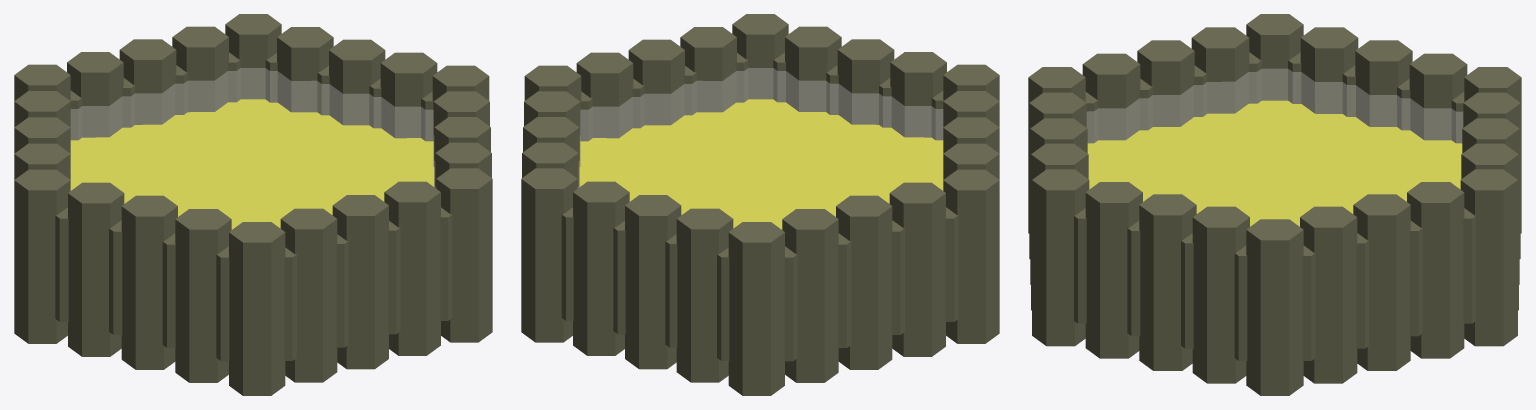
The model's file is Tatles1.fbx_Titel_Voda_6.fbx.
3 views of the same model, side by side, from view 1: azimuth 30°, elevation 25°; view 2: azimuth 150°, elevation 25°; view 3: azimuth 270°, elevation 25° (orthographic).
Visible parts, largest first — view 1: Stena_6, Voda, Dno; view 2: Stena_6, Voda, Dno; view 3: Stena_6, Voda, Dno.
Boxes of the visible parts, x1,y1,x2,y2 form: Stena_6: [14, 14, 492, 395]; Voda: [71, 68, 435, 229]; Dno: [70, 99, 434, 229]; Stena_6: [521, 14, 999, 395]; Voda: [578, 68, 942, 229]; Dno: [579, 99, 943, 229]; Stena_6: [1028, 14, 1521, 395]; Voda: [1087, 69, 1462, 226]; Dno: [1087, 100, 1462, 226].
Bounding box in the file's own units: 20.05 × 6.47 × 18.31.
